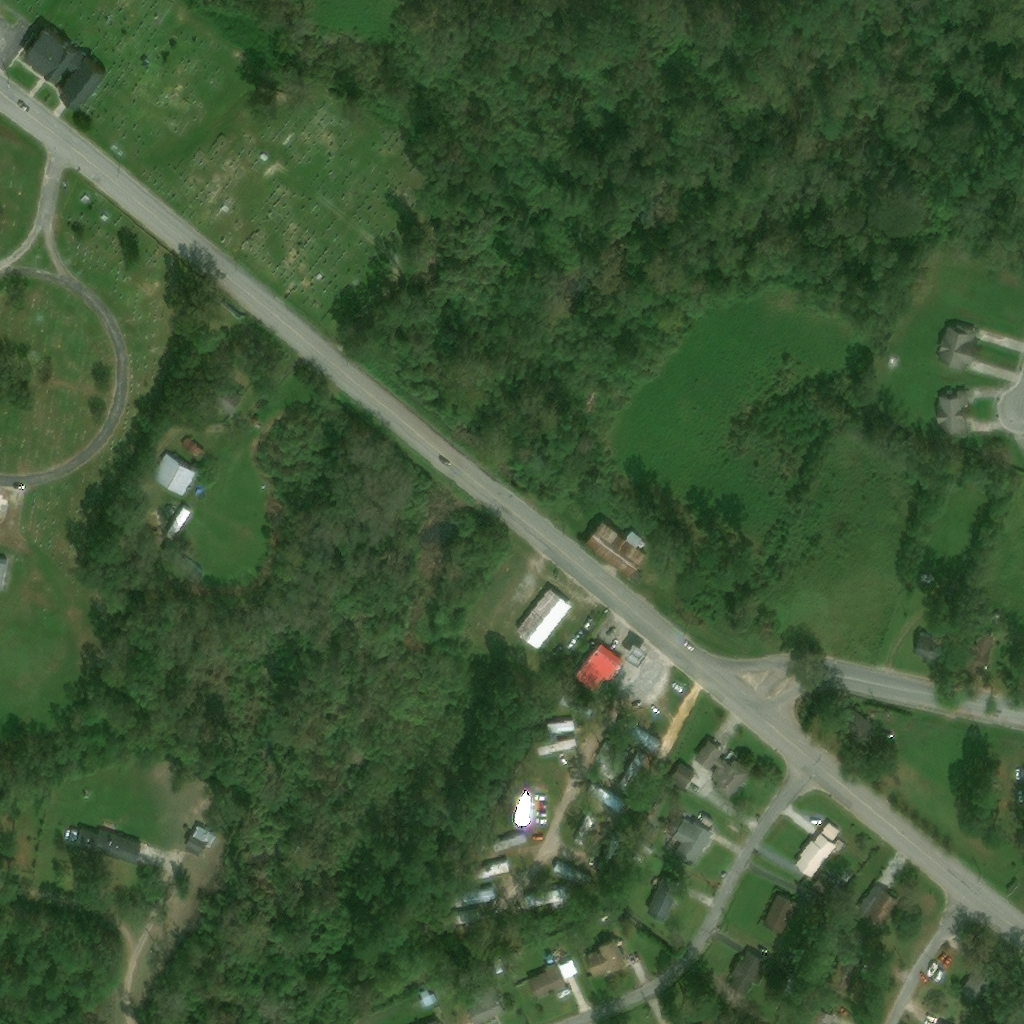no_damage: (582, 521, 649, 587), (514, 589, 574, 653), (571, 643, 625, 696), (72, 826, 140, 866), (55, 55, 104, 109), (665, 815, 716, 865), (15, 23, 65, 72), (708, 751, 755, 803), (936, 324, 978, 373), (793, 835, 837, 879), (856, 887, 900, 930), (39, 41, 84, 83), (151, 454, 196, 496), (934, 390, 970, 438), (584, 939, 626, 980), (728, 952, 765, 997), (201, 375, 242, 415), (465, 983, 505, 1023), (833, 706, 873, 745), (831, 947, 864, 994), (528, 963, 567, 1002), (959, 633, 994, 676), (762, 895, 799, 935), (647, 883, 683, 924), (957, 964, 993, 1005), (592, 742, 627, 783), (165, 548, 206, 582), (433, 911, 480, 939), (461, 860, 513, 885), (571, 815, 601, 852), (913, 632, 947, 664), (555, 693, 595, 720), (552, 862, 590, 890), (625, 726, 662, 754), (586, 783, 620, 811), (527, 889, 570, 911), (694, 740, 724, 771), (453, 889, 497, 909), (669, 764, 698, 793), (166, 505, 192, 537), (534, 738, 575, 757), (475, 961, 505, 986), (507, 796, 531, 827), (492, 834, 529, 854), (179, 438, 204, 461), (620, 643, 645, 665), (440, 980, 464, 1001), (809, 1007, 840, 1023), (559, 961, 581, 982), (193, 826, 216, 846), (793, 986, 817, 1005), (542, 721, 576, 734), (186, 834, 207, 855), (819, 823, 841, 842), (420, 993, 440, 1013), (642, 828, 659, 846), (639, 844, 657, 859), (985, 781, 999, 800), (637, 856, 650, 867)
